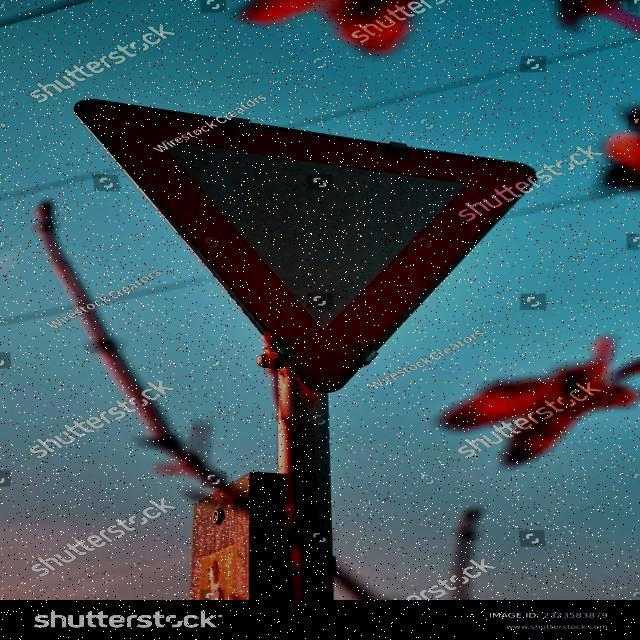Traffic sign: (69, 88, 544, 398)
